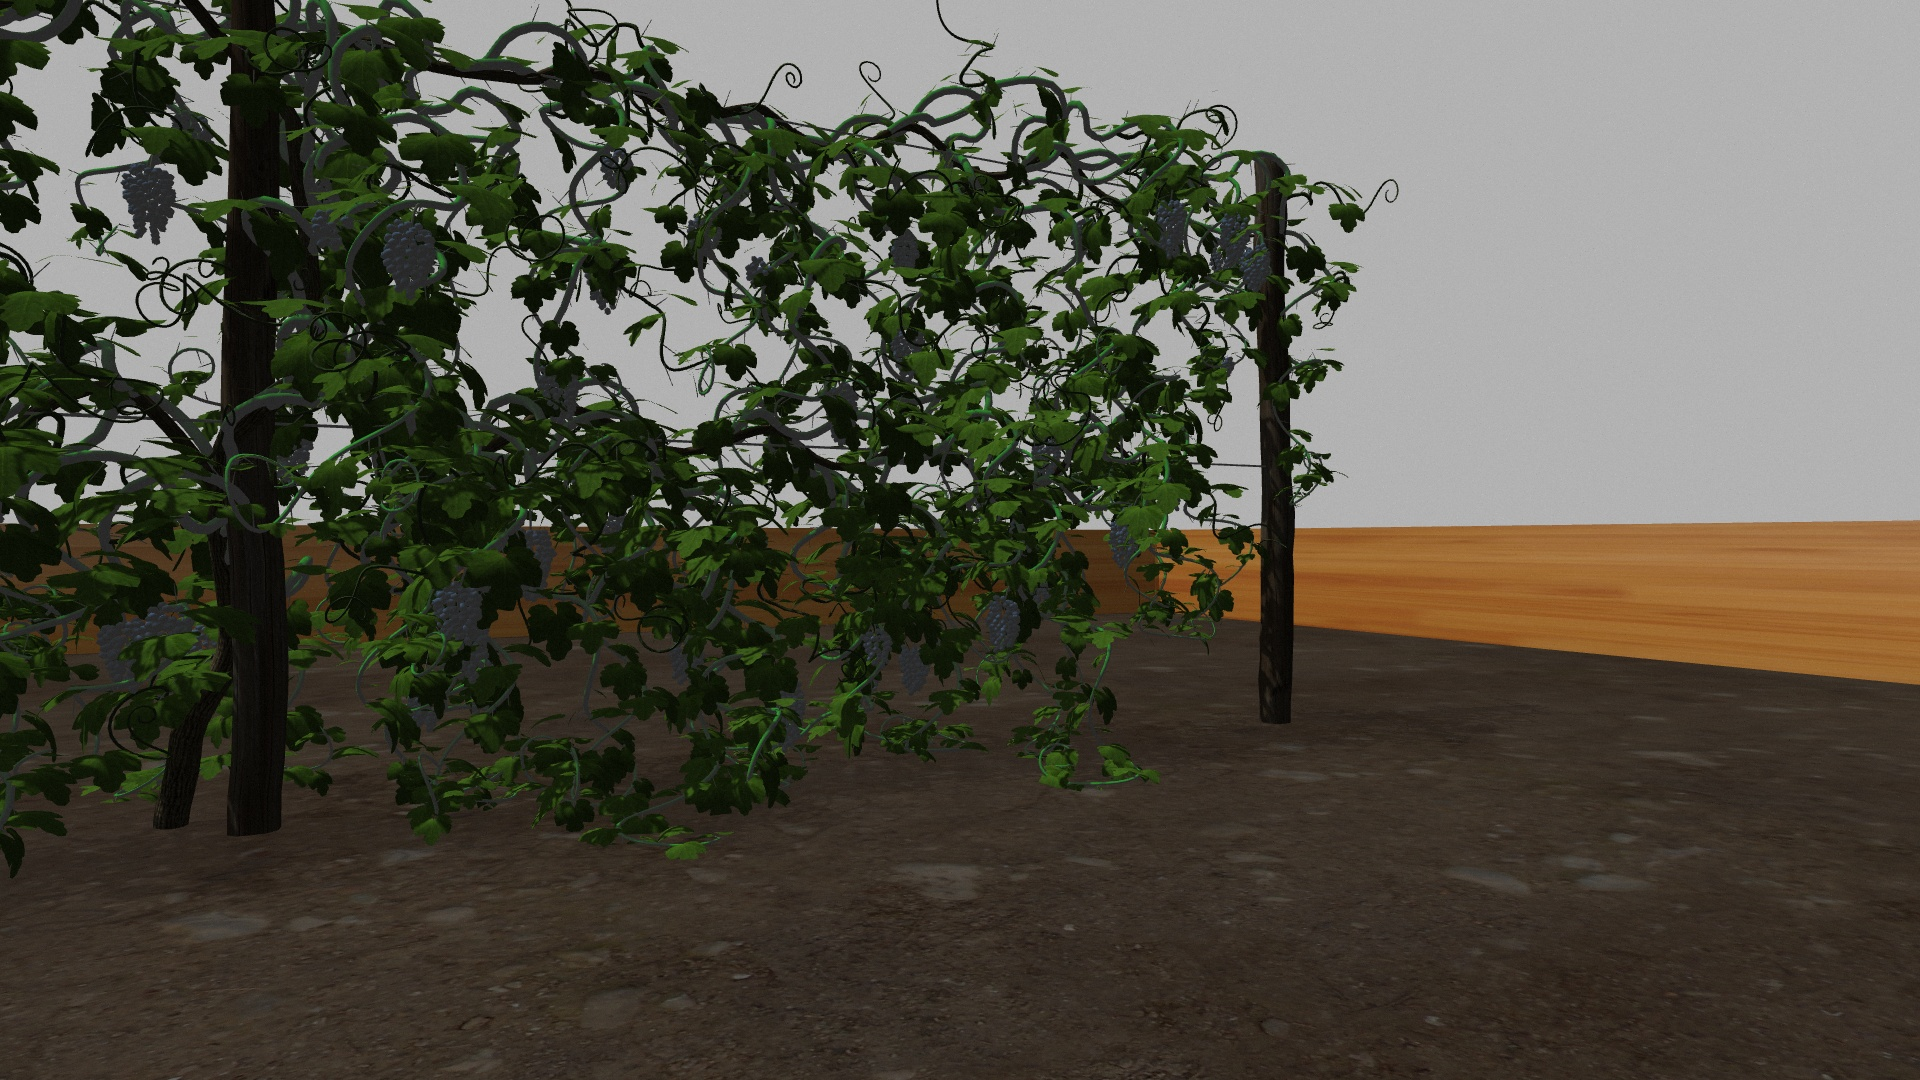grape: (433, 584, 493, 682), (120, 164, 179, 244), (381, 219, 436, 297), (512, 527, 559, 603), (96, 620, 138, 684), (541, 365, 582, 422), (138, 604, 200, 640), (986, 593, 1021, 653), (1156, 199, 1189, 258), (898, 638, 931, 698), (887, 231, 924, 276), (1218, 208, 1251, 258), (311, 212, 351, 251), (1241, 244, 1273, 291), (1108, 520, 1139, 567), (862, 628, 891, 669), (597, 158, 629, 191), (744, 255, 771, 281)
